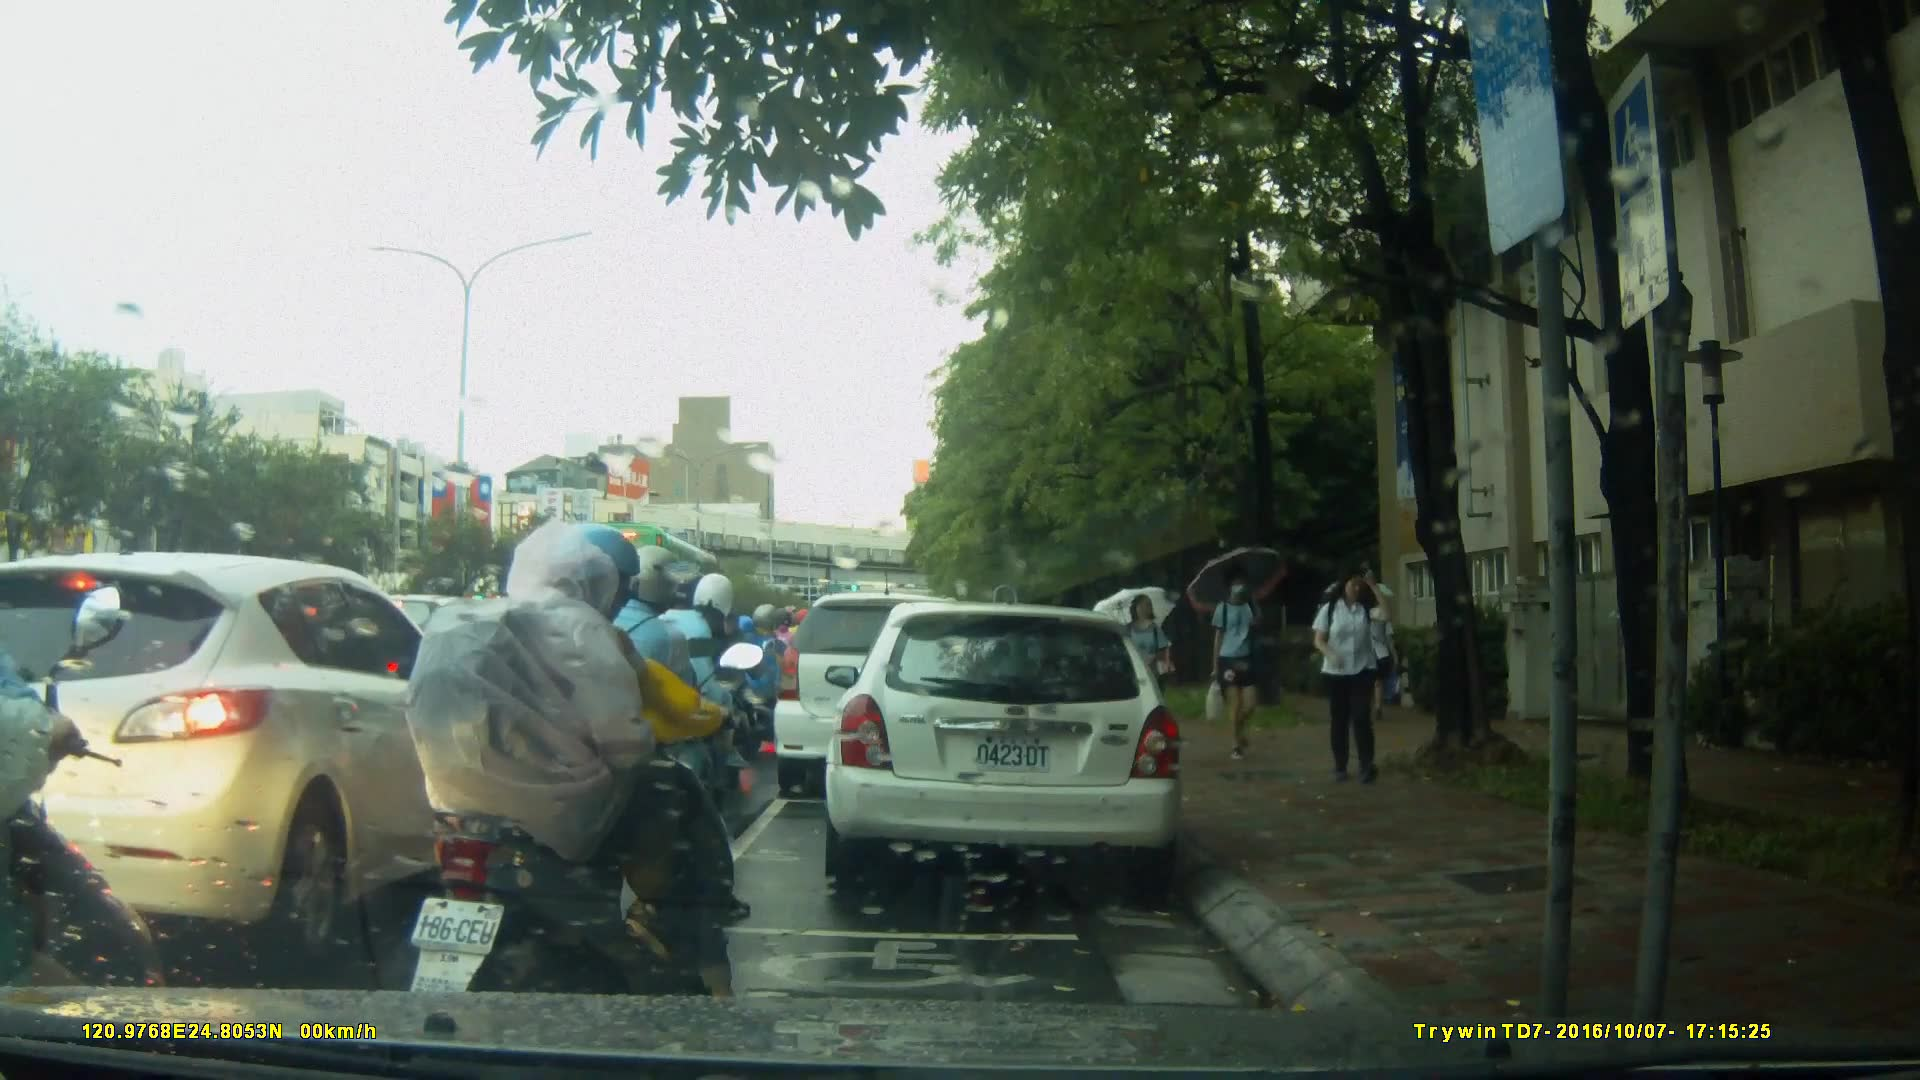pedestrian: (1306, 558, 1392, 793), (1195, 570, 1272, 770), (1115, 598, 1172, 726), (1137, 608, 1174, 733)
rider: (408, 528, 764, 1022), (1, 581, 174, 1072), (572, 548, 724, 878), (632, 575, 756, 852), (727, 602, 797, 750), (757, 607, 809, 754)
vehicle: (1, 550, 537, 966), (822, 604, 1186, 882), (774, 595, 995, 802), (554, 519, 739, 666)
